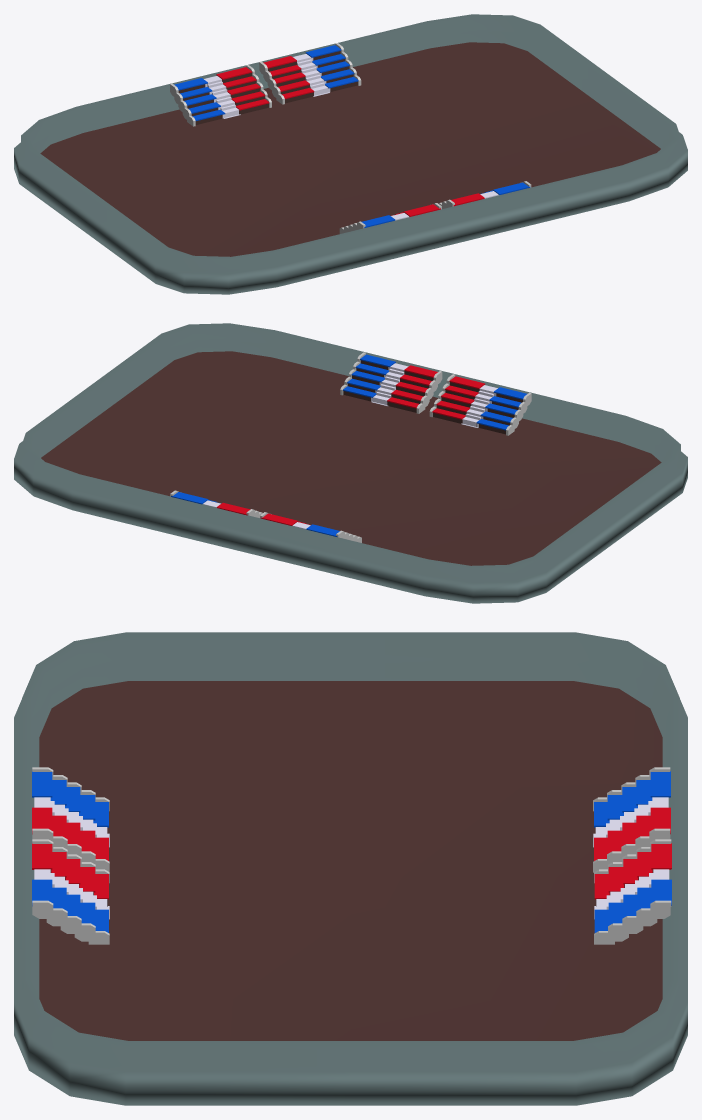
The model's file is map.fbx.
3 views of the same model, one above another, from view 1: azimuth 30°, elevation 25°; view 2: azimuth 150°, elevation 25°; view 3: azimuth 270°, elevation 25° (orthographic). The views are drawn at different scales.
Visible parts, largest first — view 1: Cube, Cube.020, Cube.002, Cube.003, Cube.001; view 2: Cube, Cube.001, Cube.003, Cube.020, Cube.002; view 3: Cube, Cube.002, Cube.001, Cube.020, Cube.003.
Boxes of the visible parts, x1,y1,x2,y2 form: Cube: [14, 14, 687, 294]; Cube.020: [170, 65, 271, 126]; Cube.002: [259, 43, 361, 104]; Cube.003: [339, 203, 441, 233]; Cube.001: [438, 181, 531, 208]; Cube: [14, 323, 687, 603]; Cube.001: [340, 352, 442, 413]; Cube.003: [429, 374, 531, 435]; Cube.020: [260, 512, 361, 542]; Cube.002: [170, 490, 262, 517]; Cube: [14, 632, 687, 1105]; Cube.002: [594, 839, 671, 944]; Cube.001: [32, 839, 109, 944]; Cube.020: [593, 767, 670, 872]; Cube.003: [32, 767, 109, 871].
Size of the model in its own units: 4049 by 259 by 2716.
